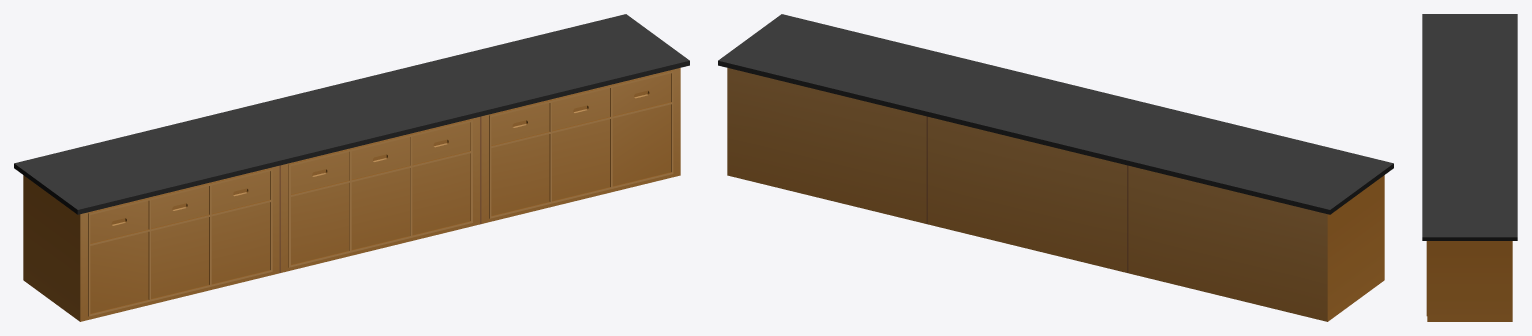
Rendered from CR_sci_Table_005.FBX.
The picture shows the model from 3 angles, left to right: view 1: azimuth 30°, elevation 25°; view 2: azimuth 150°, elevation 25°; view 3: azimuth 270°, elevation 25°; orthographic projection. The views are drawn at different scales.
Parts seen in each view (by area): view 1: CR_sci_Table_005; view 2: CR_sci_Table_005; view 3: CR_sci_Table_005.
Part boxes in pixels (box(x1,y1,x2,y2)): CR_sci_Table_005: box(14, 14, 689, 321); CR_sci_Table_005: box(718, 14, 1393, 321); CR_sci_Table_005: box(1422, 14, 1517, 321).
Bounding box in the file's own units: 331 × 59.9 × 59.74.
